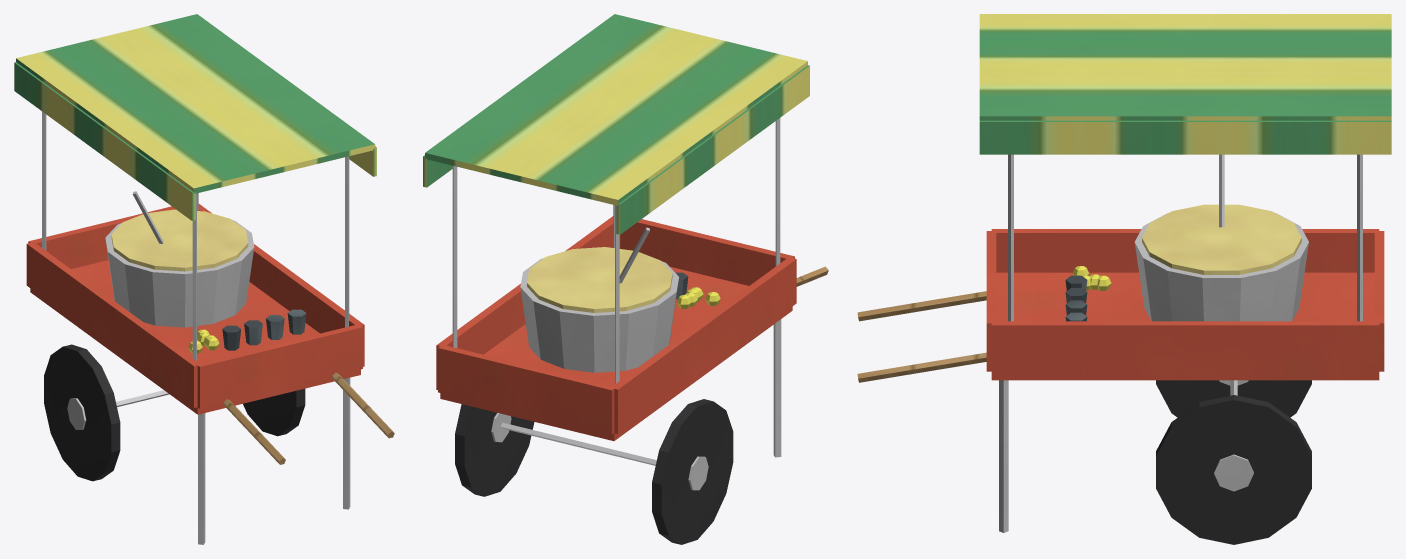
File: termis-cart.glb
The picture shows the model from 3 angles, left to right: view 1: azimuth 30°, elevation 25°; view 2: azimuth 150°, elevation 25°; view 3: azimuth 270°, elevation 25°; orthographic projection. The views are drawn at different scales.
Visible parts, largest first — view 1: termis_cart; view 2: termis_cart; view 3: termis_cart.
Part boxes in pixels (x1=…): termis_cart: x1=14, y1=14, x2=394, y2=544; termis_cart: x1=423, y1=14, x2=828, y2=544; termis_cart: x1=857, y1=14, x2=1391, y2=544.
Bounding box in the file's own units: 1.09 × 1.93 × 2.2.
1 material, 1 textured.
